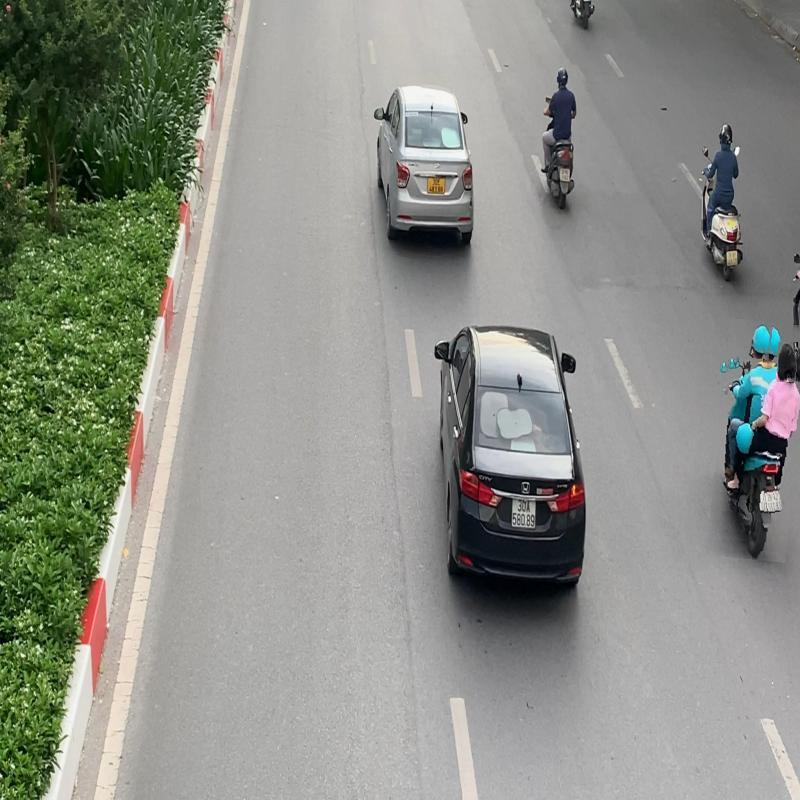helmet: (750, 323, 772, 360)
licenseplate: (765, 488, 783, 512)
motorcyclist: (711, 320, 800, 562)
nohelmet: (776, 342, 798, 382)
